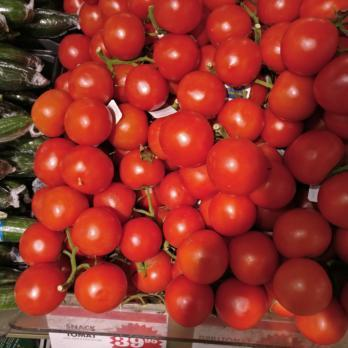Tomato: (73, 0, 348, 343), (23, 88, 88, 316)
